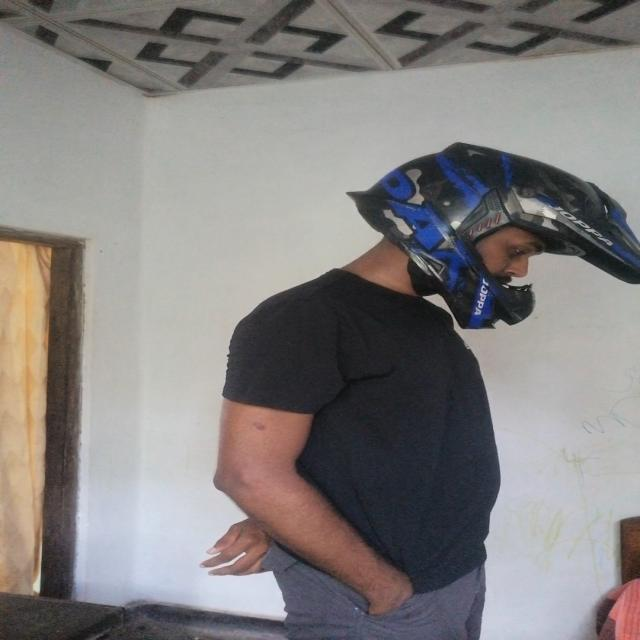Helmet_Wearer: (338, 114, 640, 320)
Person: (218, 146, 569, 640)
